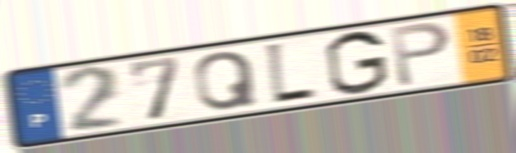2: (57, 63, 130, 137)
7: (126, 53, 183, 124)
G: (323, 29, 391, 98)
L: (261, 40, 319, 109)
P: (387, 19, 455, 91)
Q: (192, 49, 261, 113)
